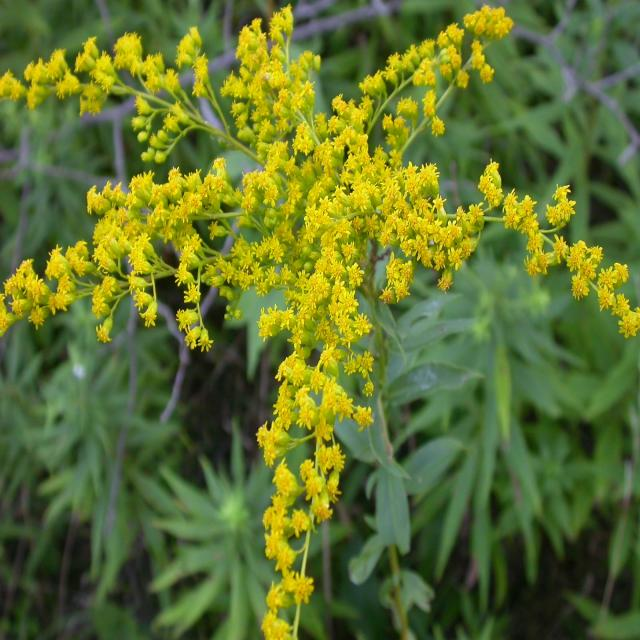ambrosia: (18, 31, 636, 596)
